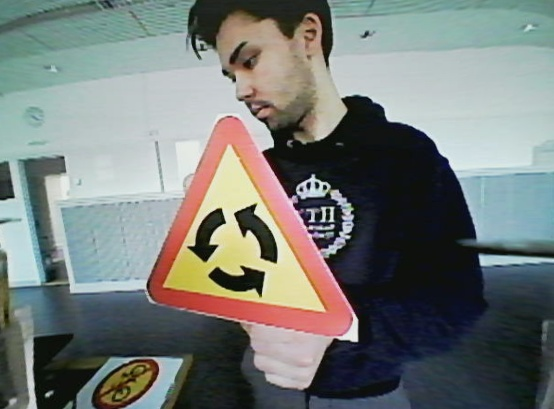roundabout_warning: (129, 109, 369, 346)
